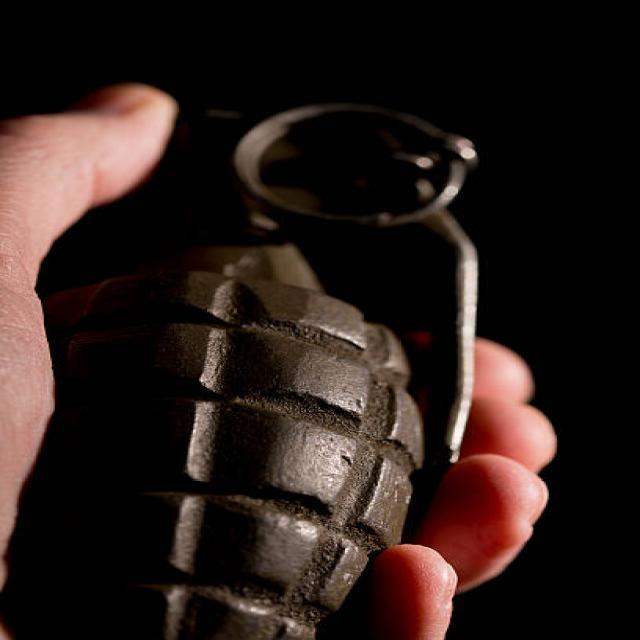grenade: (1, 95, 499, 640)
